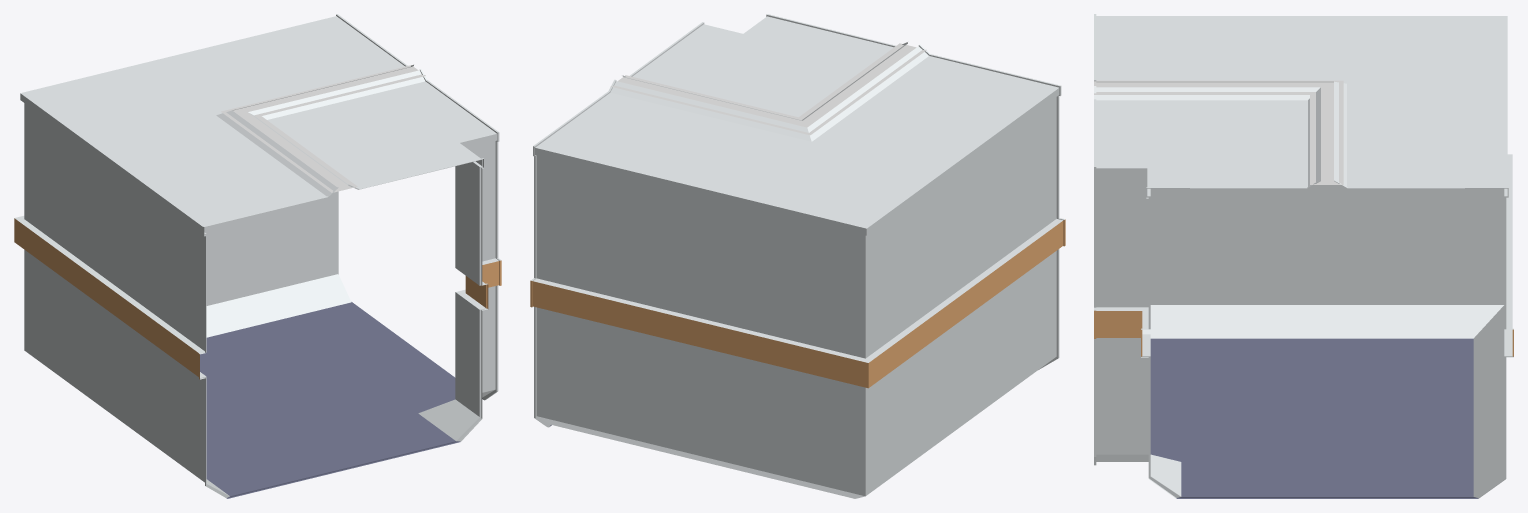
Rendered from HoekGang.fbx.
3 renders of one model, left to right at view 1: azimuth 30°, elevation 25°; view 2: azimuth 150°, elevation 25°; view 3: azimuth 270°, elevation 25°, orthographic. The views are drawn at different scales.
Parts seen in each view (by area): view 1: HoekGang; view 2: HoekGang; view 3: HoekGang.
Part boxes in pixels (<box>): HoekGang: <box>14,14,501,498</box>; HoekGang: <box>530,14,1065,498</box>; HoekGang: <box>1094,14,1513,498</box>.
Size of the model in its own units: 2.48 by 2.09 by 2.5.
